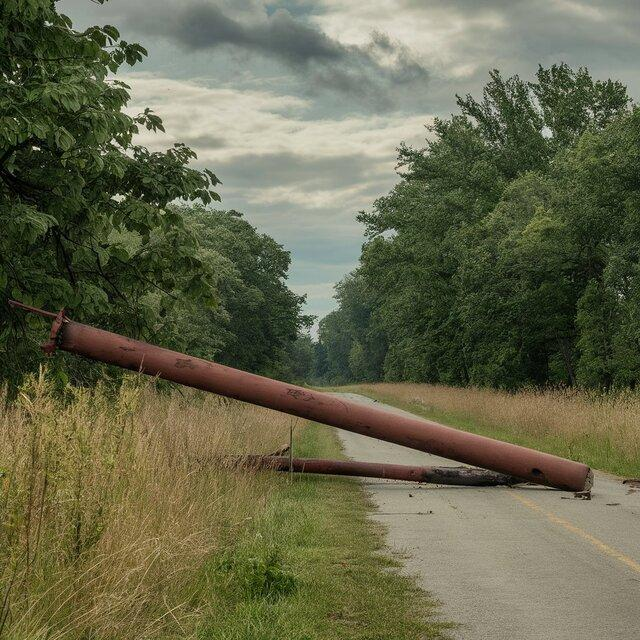Inclined Pole: (41, 305, 600, 496), (224, 452, 526, 489)
